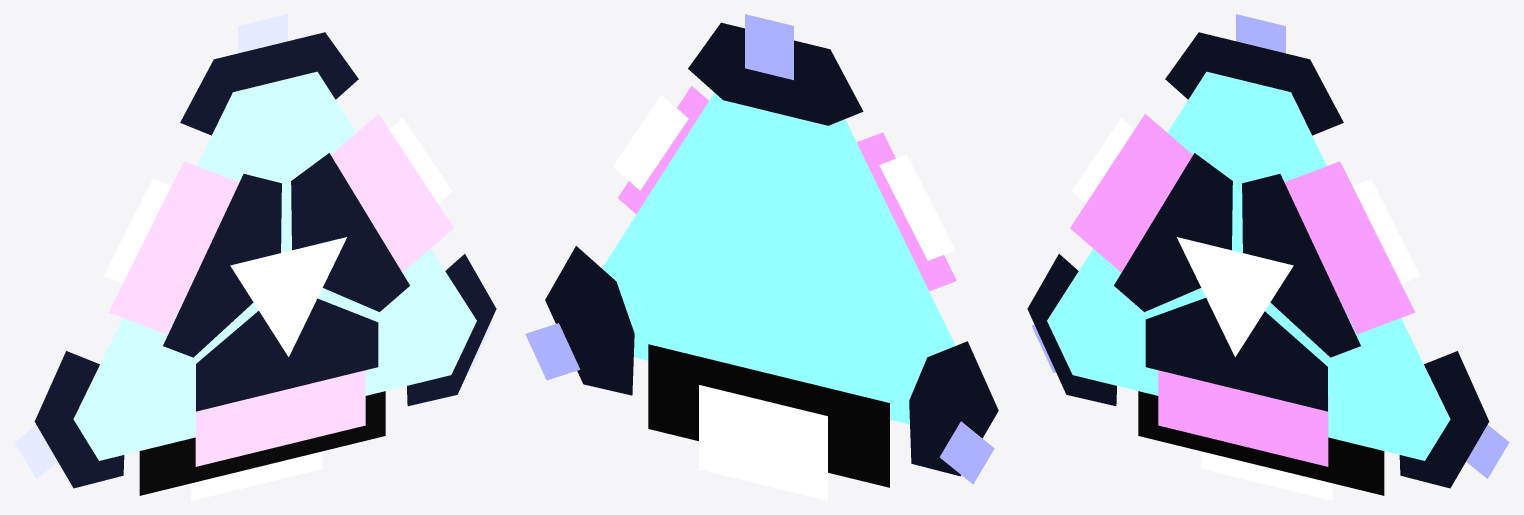
The model's file is Tesseract.glb.
3 renders of one model, left to right at view 1: azimuth 30°, elevation 25°; view 2: azimuth 150°, elevation 25°; view 3: azimuth 330°, elevation 25°, orthographic.
Visible parts, largest first — view 1: pPlane3, pPlane10, pPlane9, pPlane11, pPlane12, pPlane4, pPlane2, pDisc1, pPlane7, pPlane6, pPlane8, pPlane5 (+1 smaller); view 2: pPlane3, pPlane4, pPlane7, pPlane8, pPlane2, pPlane6, pPlane10, pPlane5, pPlane1; view 3: pPlane3, pPlane10, pPlane9, pPlane11, pPlane12, pPlane4, pPlane2, pDisc1, pPlane7, pPlane6, pPlane8, pPlane5 (+1 smaller).
Part boxes in pixels (box(x1,y1,x2,y2)): pPlane3: box(73, 71, 476, 460); pPlane10: box(108, 114, 453, 334); pPlane9: box(163, 153, 409, 357); pPlane11: box(196, 298, 378, 411); pPlane12: box(195, 370, 365, 466); pPlane4: box(34, 254, 496, 488); pPlane2: box(180, 32, 358, 135); pDisc1: box(230, 237, 346, 356); pPlane7: box(139, 391, 385, 495); pPlane6: box(103, 118, 452, 283); pPlane8: box(191, 451, 322, 500); pPlane5: box(14, 324, 491, 478); pPlane3: box(602, 92, 955, 424); pPlane4: box(545, 246, 998, 476); pPlane7: box(648, 344, 889, 487); pPlane8: box(699, 385, 827, 500); pPlane2: box(688, 22, 863, 125); pPlane6: box(613, 95, 954, 260); pPlane10: box(618, 85, 956, 291); pPlane5: box(525, 323, 994, 484); pPlane1: box(745, 14, 793, 80); pPlane3: box(1047, 71, 1450, 460); pPlane10: box(1070, 114, 1415, 334); pPlane9: box(1114, 153, 1360, 357); pPlane11: box(1145, 298, 1327, 411); pPlane12: box(1158, 370, 1328, 466); pPlane4: box(1027, 254, 1489, 488); pPlane2: box(1165, 32, 1343, 135); pDisc1: box(1177, 237, 1293, 356); pPlane7: box(1138, 391, 1384, 495); pPlane6: box(1071, 118, 1420, 283); pPlane8: box(1201, 451, 1332, 500); pPlane5: box(1032, 324, 1509, 478).
Bounding box in the file's own units: 133 × 125 × 17.08.
